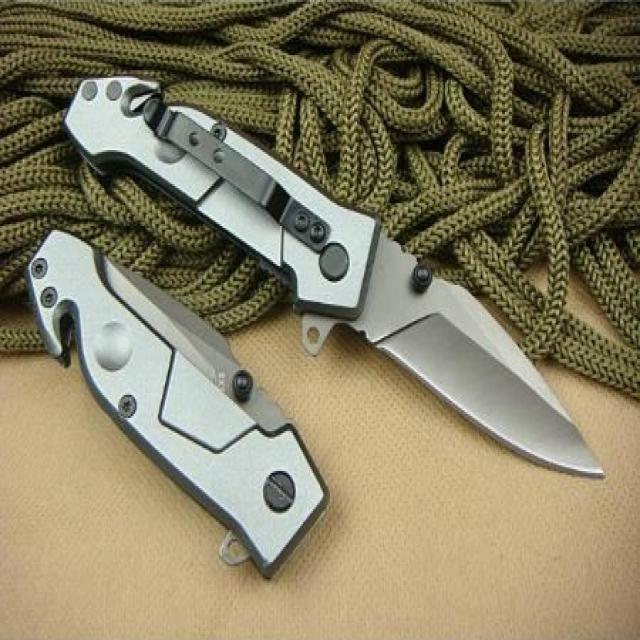knife: (64, 68, 615, 506)
